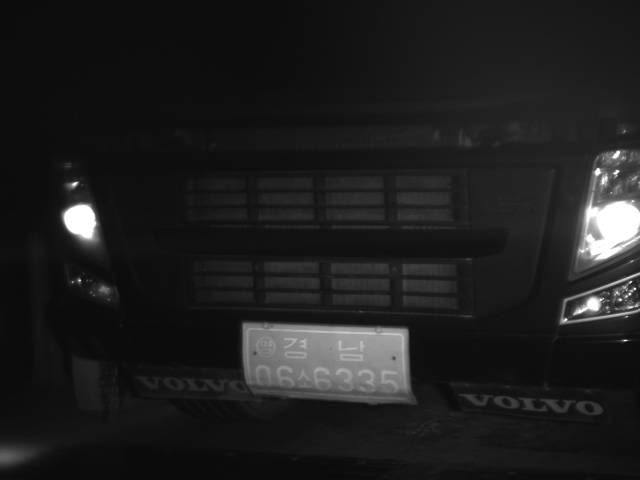car: (37, 1, 640, 429)
plate: (238, 320, 421, 407)
